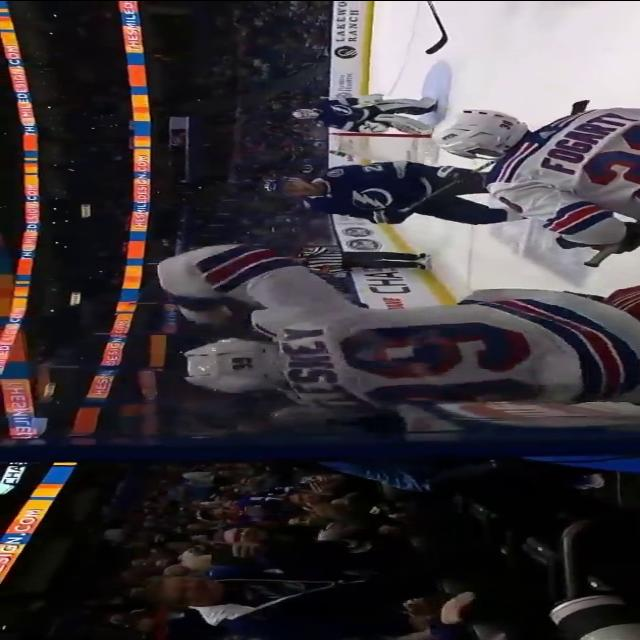NonViolence: (154, 546, 425, 638), (251, 160, 491, 228), (286, 92, 440, 134)
Violence: (148, 239, 640, 426)
